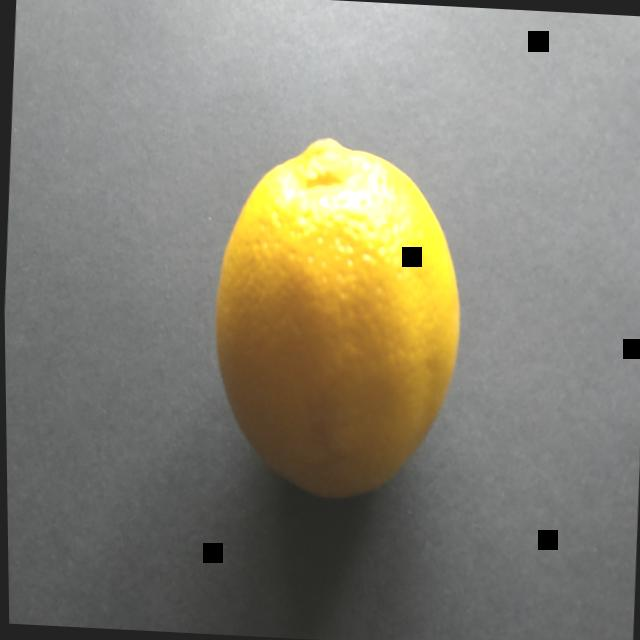Lemon: (164, 99, 489, 532)
